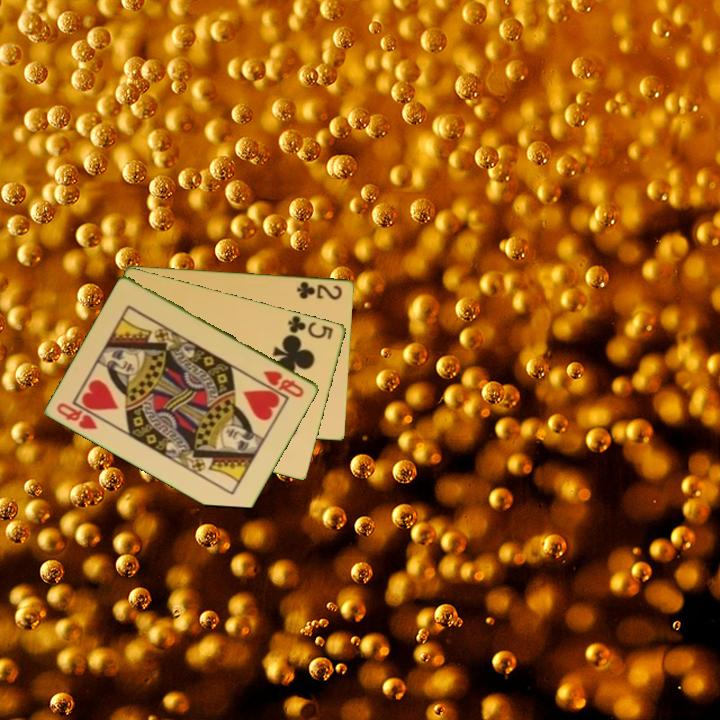2c: (293, 278, 345, 303)
5c: (285, 312, 336, 342)
Qh: (260, 367, 307, 401), (54, 399, 101, 432)
